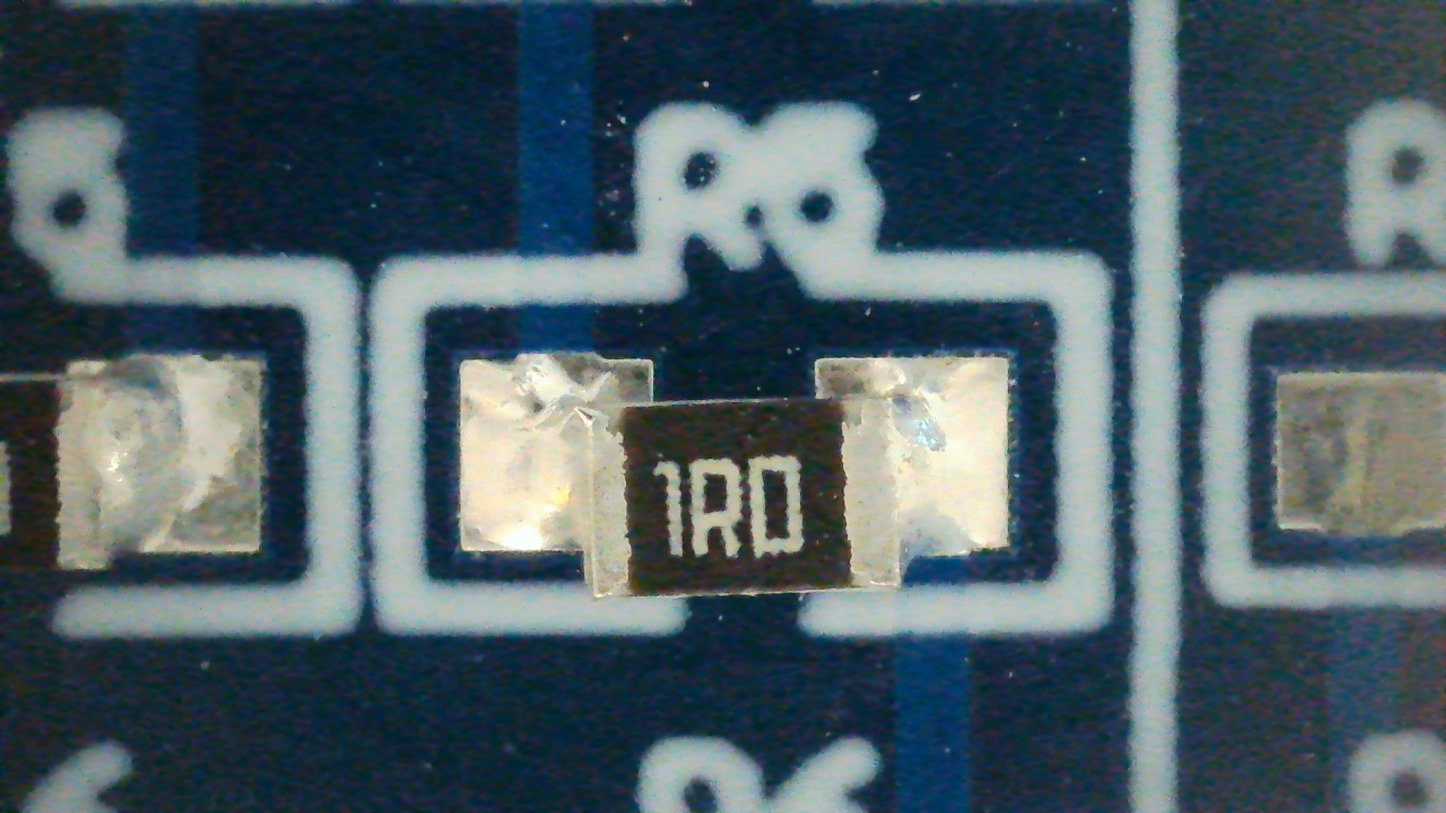NG: (459, 358, 1008, 596)
